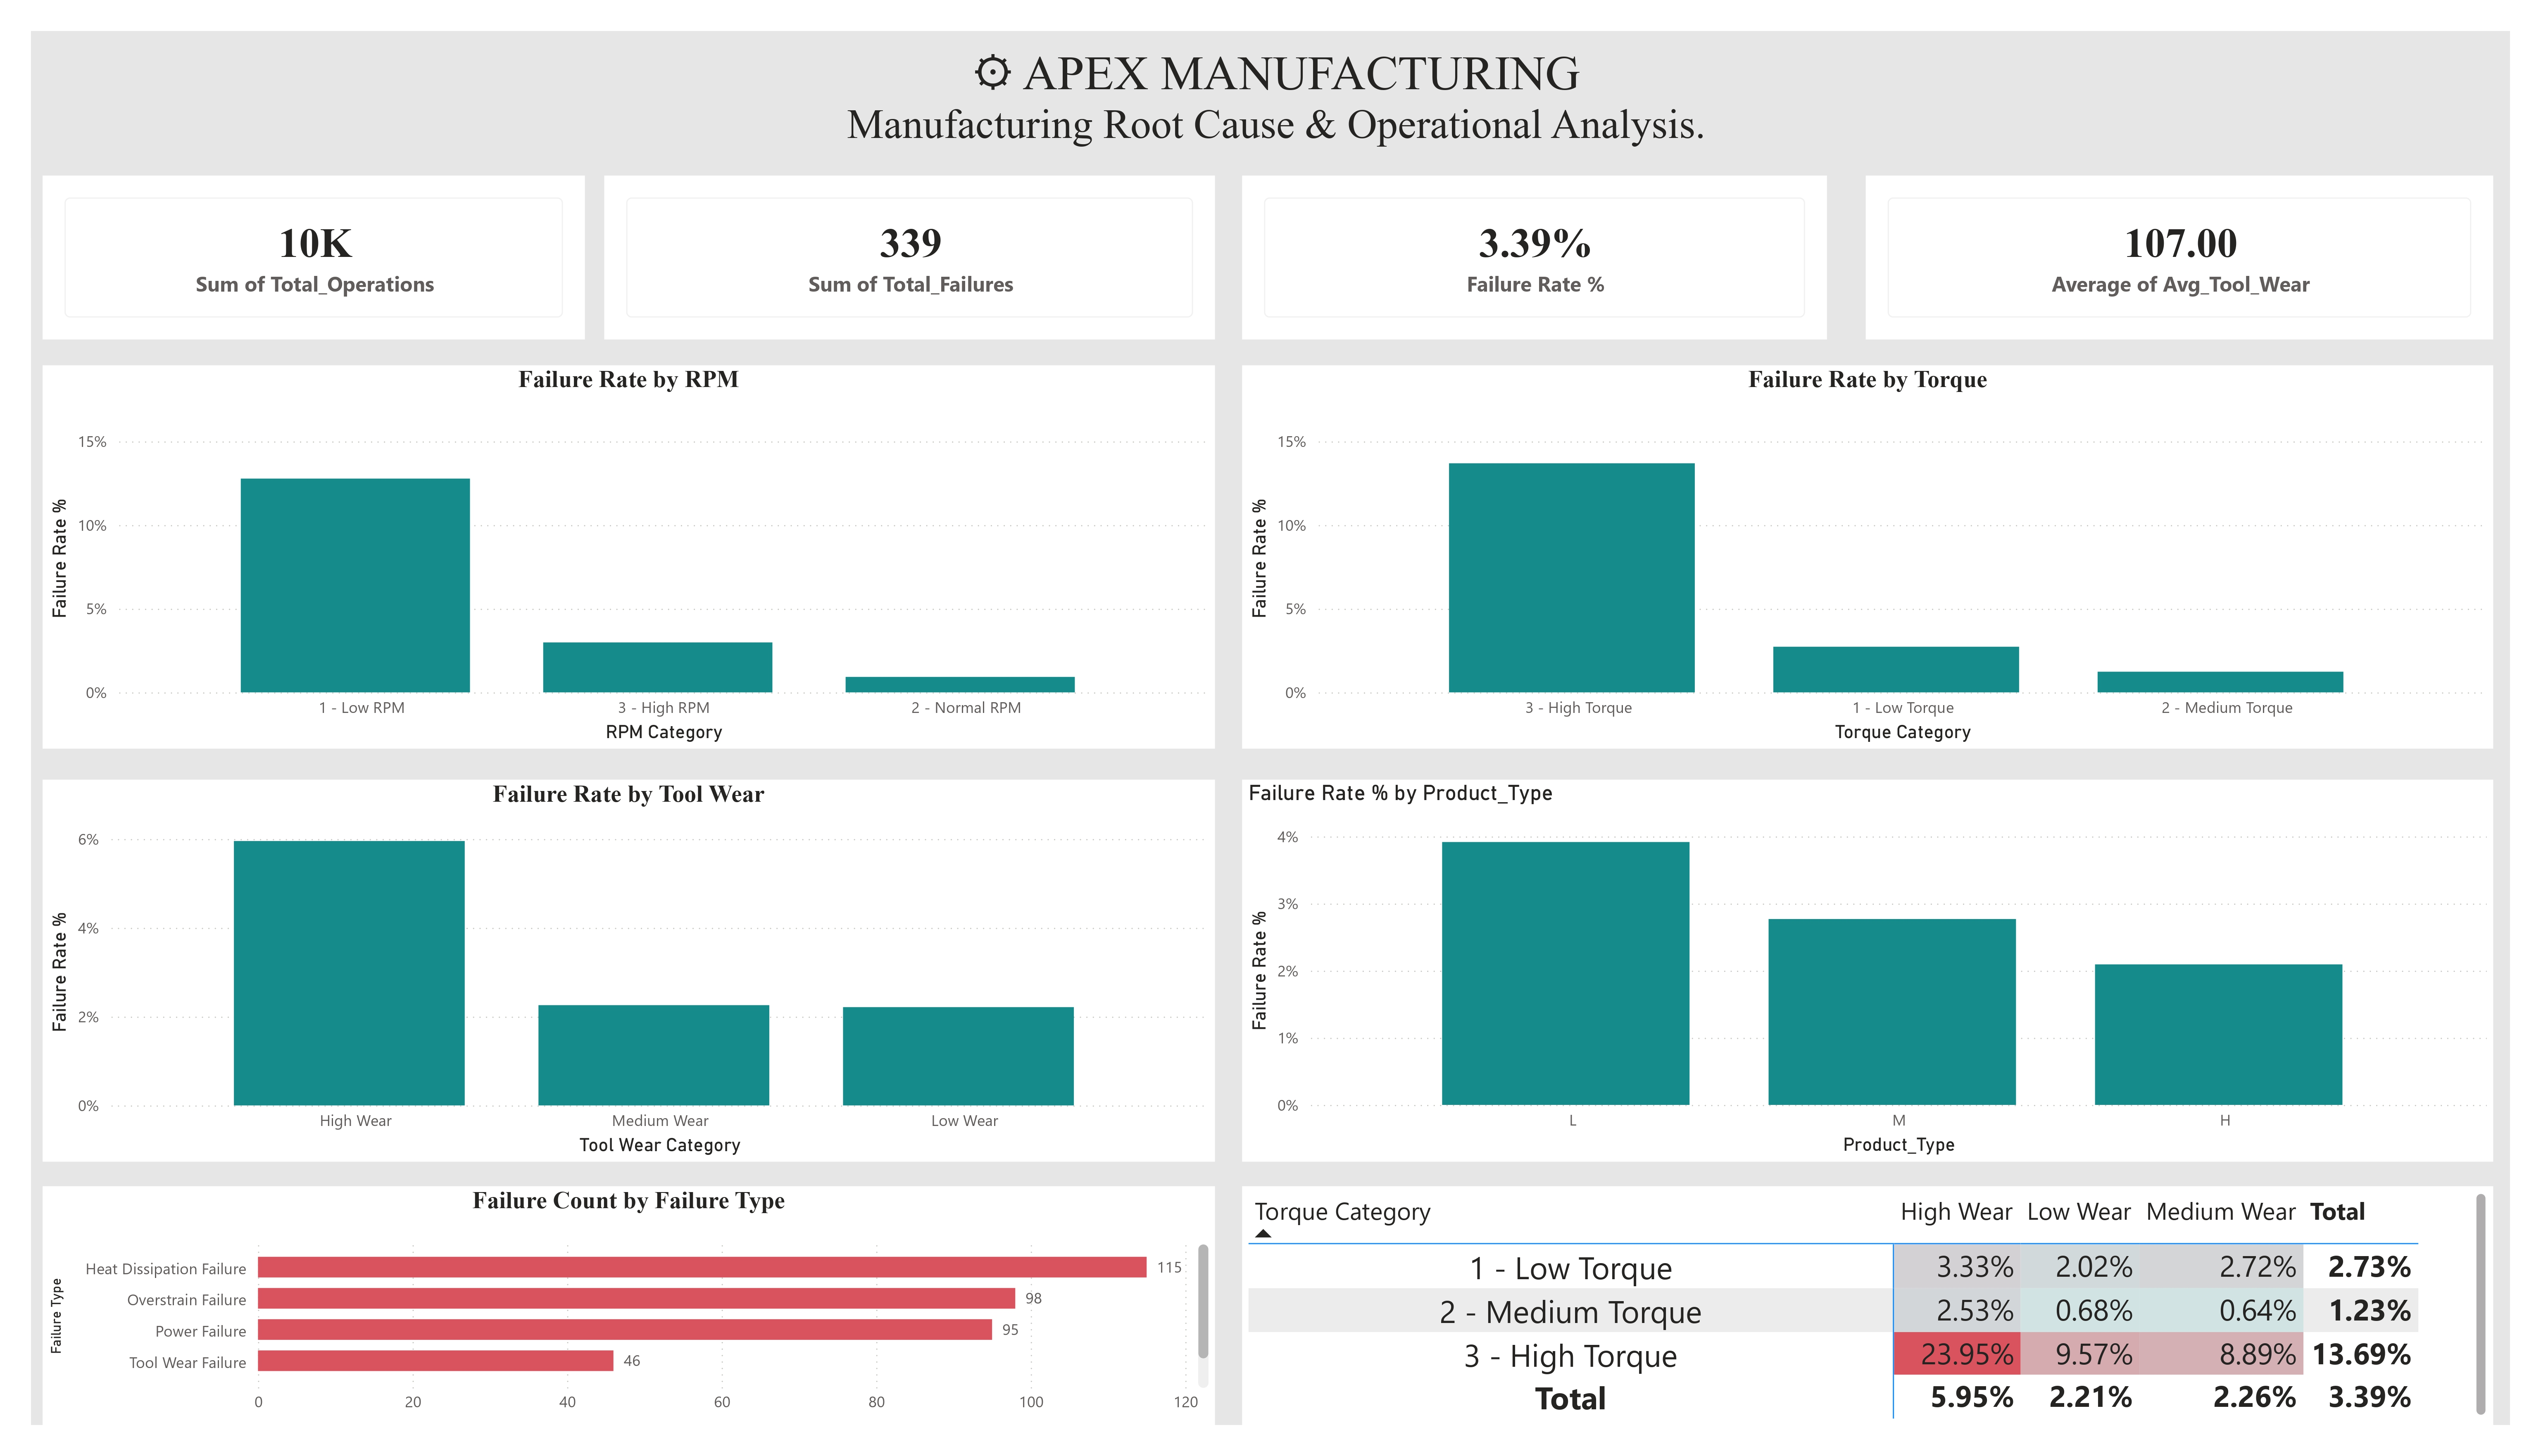

The dashboard page shown, as its layout file describes it:
{"tool":"powerbi","page":{"name":"Manufacturing Root Cause Analysis","canvas":[1920,1080],"ordinal":2},"visuals":[{"type":"textbox","box":[9.3,0,1911.1,111.9],"z":4000},{"type":"cardVisual","fields":{"Data":["Sum(analytics vw_manufacturing_kpis.Total_Operations)"]},"box":[9.3,111.9,419.5,126.8],"z":4001},{"type":"cardVisual","fields":{"Data":["warehouse fact_machine_operations.Failure Rate %"]},"box":[937.8,111.9,453.1,126.8],"z":4002},{"type":"cardVisual","fields":{"Data":["Avg(analytics vw_manufacturing_kpis.Avg_Tool_Wear)"]},"box":[1420.7,111.9,486.6,126.8],"z":4003},{"type":"cardVisual","fields":{"Data":["Sum(analytics vw_manufacturing_kpis.Total_Failures)"]},"box":[443.7,111.9,473.6,126.8],"z":4004},{"type":"clusteredColumnChart","title":"Failure Rate by RPM","fields":{"Category":["warehouse fact_machine_operations.RPM Category"],"Y":["warehouse fact_machine_operations.Failure Rate %"]},"box":[9.3,259.2,908,296.4],"z":4005},{"type":"clusteredColumnChart","title":"Failure Rate by Torque","fields":{"Category":["warehouse fact_machine_operations.Torque Category"],"Y":["warehouse fact_machine_operations.Failure Rate %"]},"box":[937.8,259.2,969.5,296.4],"z":4006},{"type":"clusteredColumnChart","title":"Failure Rate by Tool Wear","fields":{"Category":["warehouse fact_machine_operations.Tool Wear Category"],"Y":["warehouse fact_machine_operations.Failure Rate %"]},"box":[9.3,579.8,908,296.4],"z":4007},{"type":"clusteredBarChart","title":"Failure Count by Failure Type","fields":{"Category":["Failure Types.Failure Type"],"Y":["Failure Types.Failure Count"]},"box":[9.3,894.9,908,184.6],"z":4009},{"type":"clusteredColumnChart","fields":{"Category":["warehouse fact_machine_operations.Product_Type"],"Y":["warehouse fact_machine_operations.Failure Rate %"]},"box":[937.8,579.8,969.5,296.4],"z":4010},{"type":"pivotTable","fields":{"Rows":["warehouse fact_machine_operations.Torque Category"],"Columns":["warehouse fact_machine_operations.Tool Wear Category"],"Values":["warehouse fact_machine_operations.Failure Rate %"]},"box":[937.8,894.9,969.5,184.6],"z":4011}]}

Visuals, with their boxes on the page's 1920x1080 design canvas (x1, y1, x2, y2). These are canvas units, not pixel positions in the 2541x1456 screenshot, which may show the page scaled, cropped or inside an application window:
textbox: BBox(9, 0, 1920, 112)
cardVisual - Sum(analytics vw_manufacturing_kpis.Total_Operations): BBox(9, 112, 429, 239)
cardVisual - warehouse fact_machine_operations.Failure Rate %: BBox(938, 112, 1391, 239)
cardVisual - Avg(analytics vw_manufacturing_kpis.Avg_Tool_Wear): BBox(1421, 112, 1907, 239)
cardVisual - Sum(analytics vw_manufacturing_kpis.Total_Failures): BBox(444, 112, 917, 239)
"Failure Rate by RPM" clusteredColumnChart: BBox(9, 259, 917, 556)
"Failure Rate by Torque" clusteredColumnChart: BBox(938, 259, 1907, 556)
"Failure Rate by Tool Wear" clusteredColumnChart: BBox(9, 580, 917, 876)
"Failure Count by Failure Type" clusteredBarChart: BBox(9, 895, 917, 1080)
clusteredColumnChart - warehouse fact_machine_operations.Product_Type x warehouse fact_machine_operations.Failure Rate %: BBox(938, 580, 1907, 876)
pivotTable - warehouse fact_machine_operations.Torque Category x warehouse fact_machine_operations.Tool Wear Category: BBox(938, 895, 1907, 1080)
